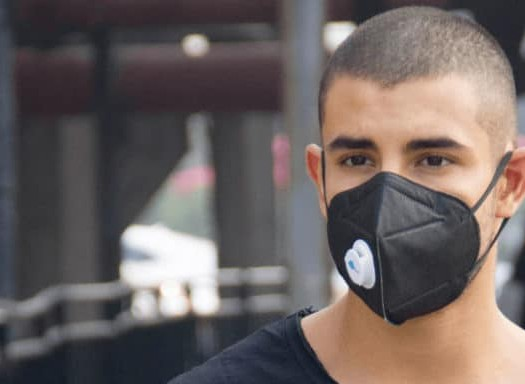with_mask: (305, 88, 525, 332)
